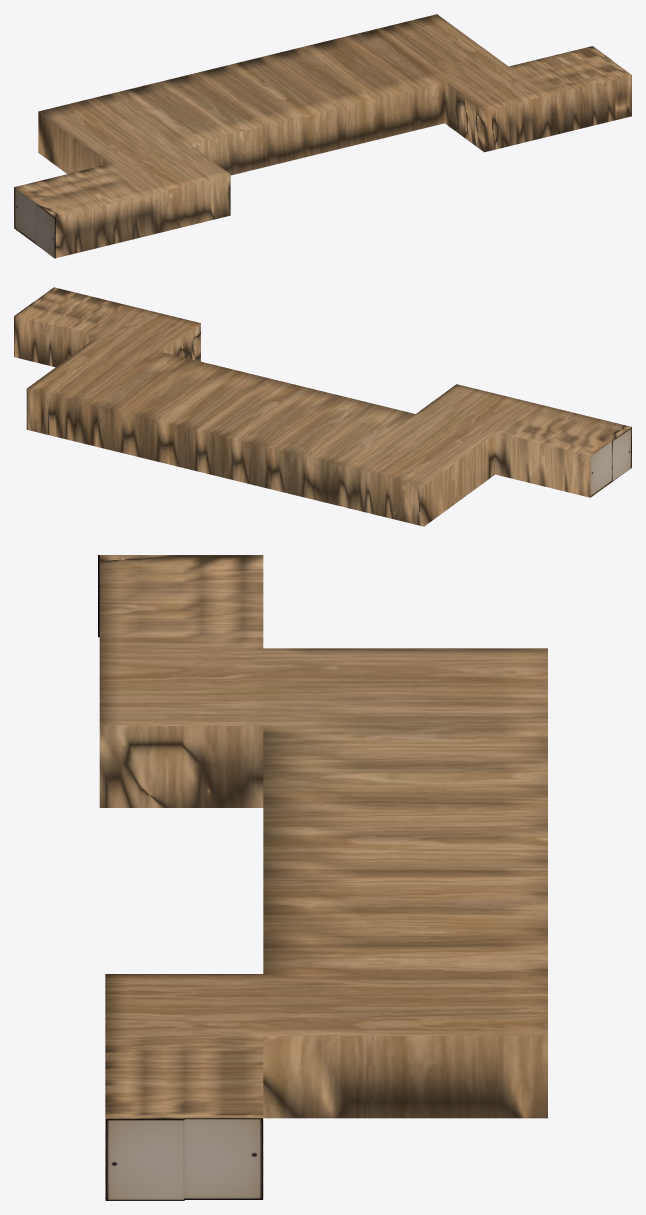
Rendered from Stage.fbx.
3 renders of one model, top to bottom at view 1: azimuth 30°, elevation 25°; view 2: azimuth 150°, elevation 25°; view 3: azimuth 270°, elevation 25°, orthographic. The views are drawn at different scales.
Parts seen in each view (by area): view 1: Cube, 平面.001, 平面.002; view 2: Cube, 平面.001, 平面.002; view 3: Cube, 平面.003, 平面.
Boxes of the visible parts, x1,y1,x2,y2 form: Cube: (14,14,631,258); 平面.001: (14,188,36,243); 平面.002: (35,204,54,258); Cube: (14,287,631,526); 平面.001: (590,441,611,496); 平面.002: (612,428,631,480); Cube: (98,555,547,1199); 平面.003: (105,1118,184,1200); 平面: (184,1118,262,1199).
Size of the model in its own units: 5875 by 406 by 1986.
